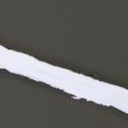crackTip: (1, 68, 128, 127)
